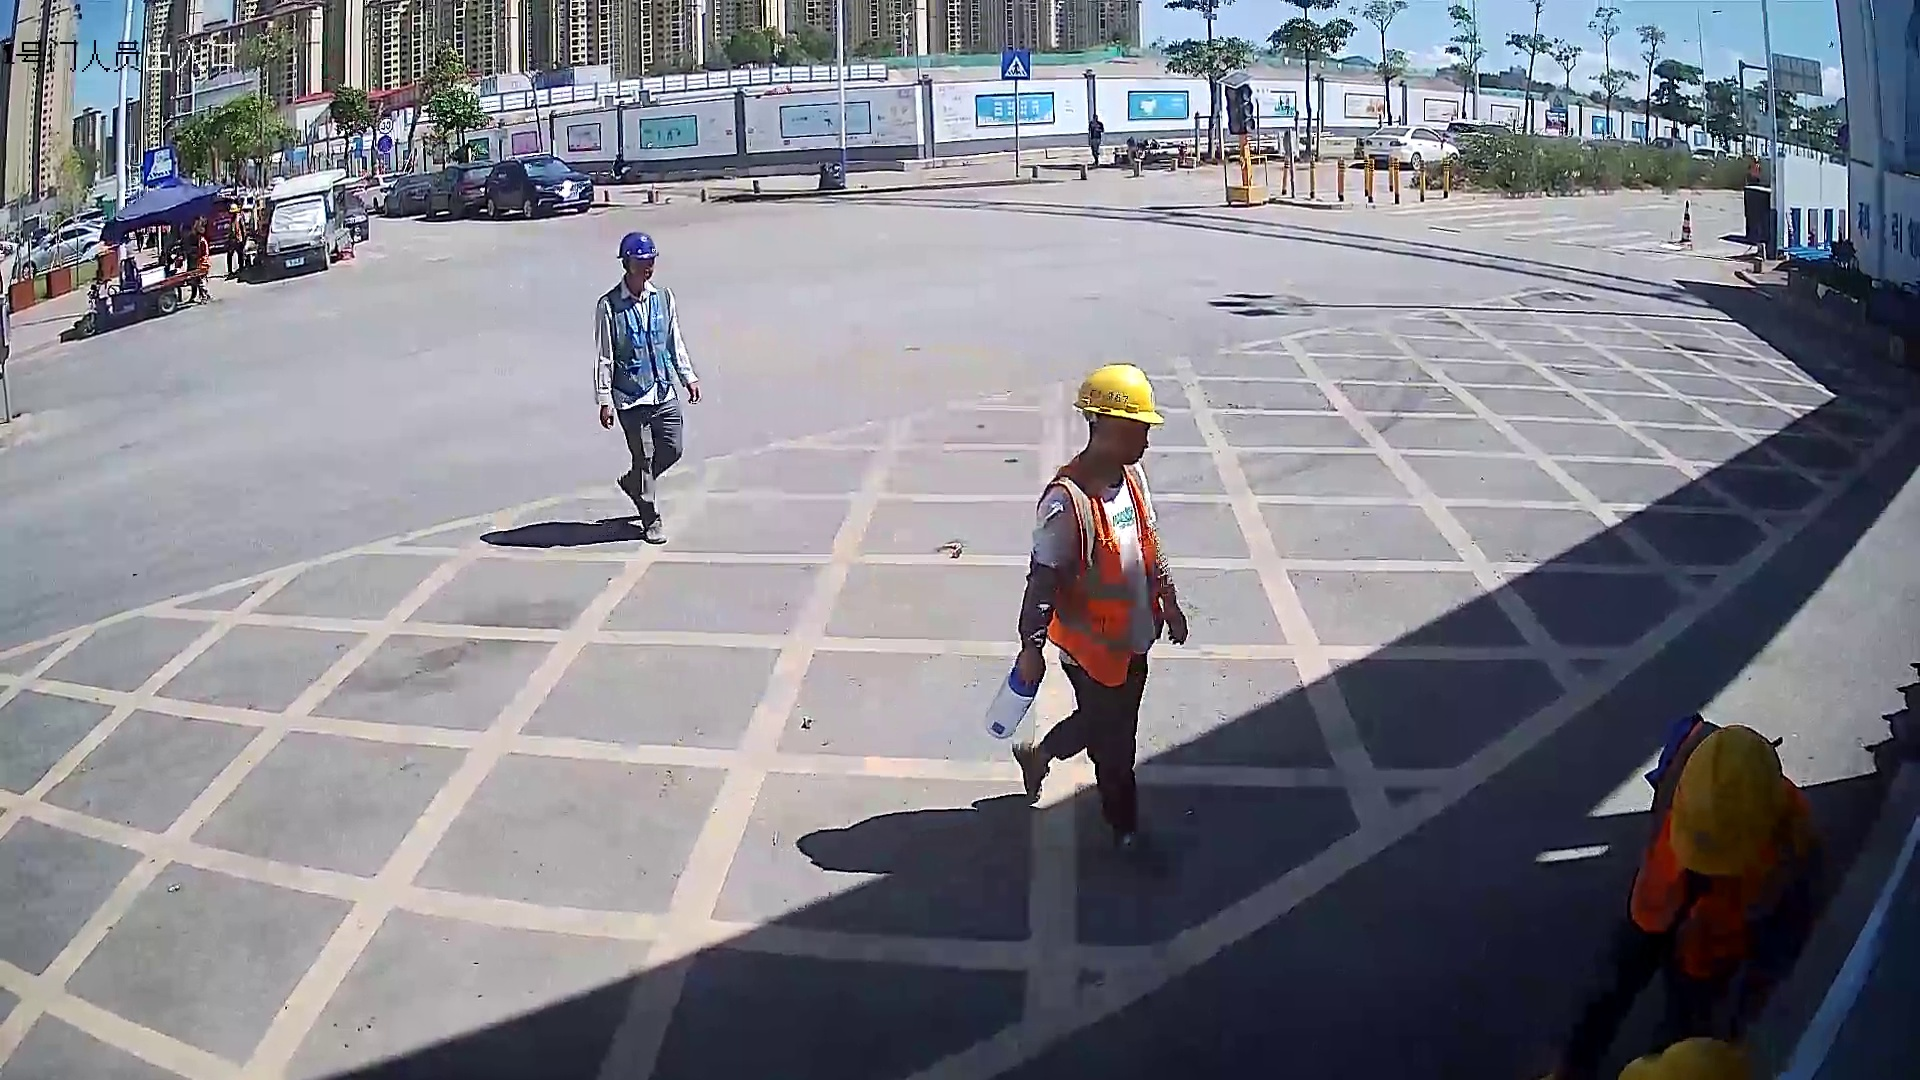person: (1008, 356, 1191, 864), (591, 228, 703, 547)
reflective_vest: (1629, 720, 1826, 976), (1034, 455, 1163, 693), (601, 285, 676, 396)
safety_helmet: (1666, 722, 1787, 883), (1075, 359, 1164, 467), (613, 229, 660, 285)
